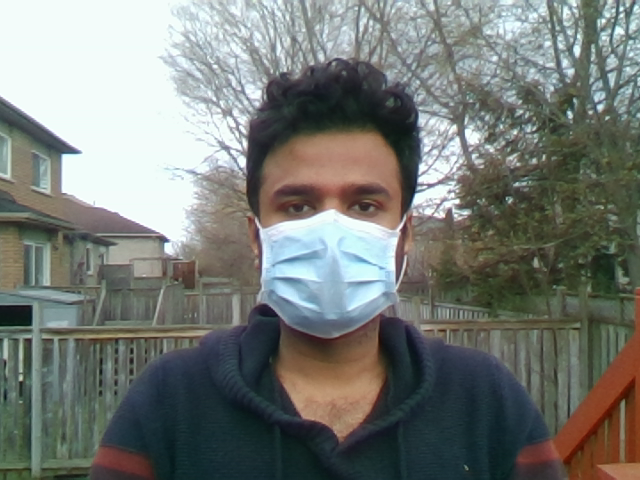Mask: (235, 208, 417, 346)
